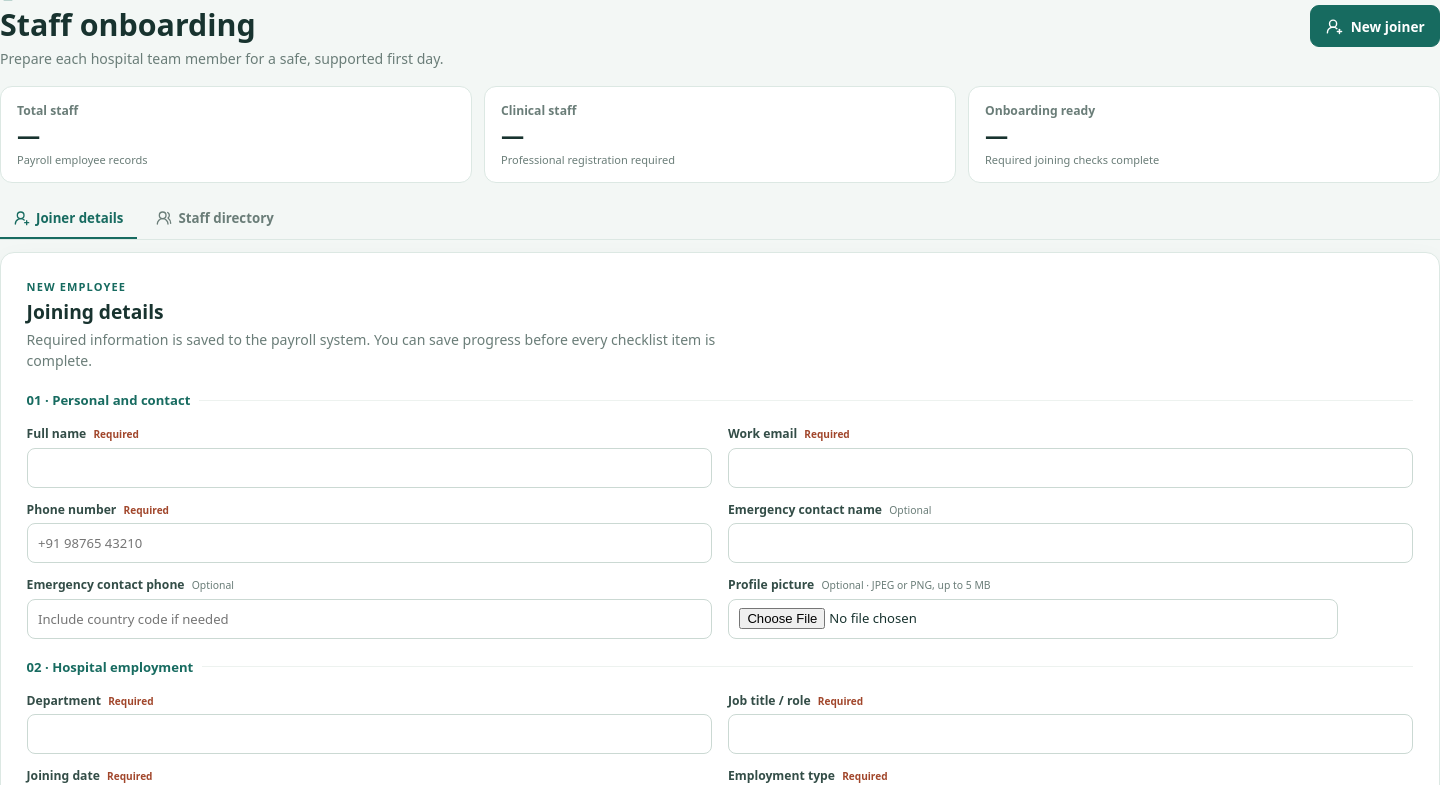
shows professional credentialing fields for clinical roles
The width and height of the screenshot is (1440, 785).
Expected: the heading "Joining details" is shown, [27,298,164,325]
In the field labelled "Job title / role Required": point(1071, 734) [728,714,1413,754], type "Doctor"
(page scrolled)
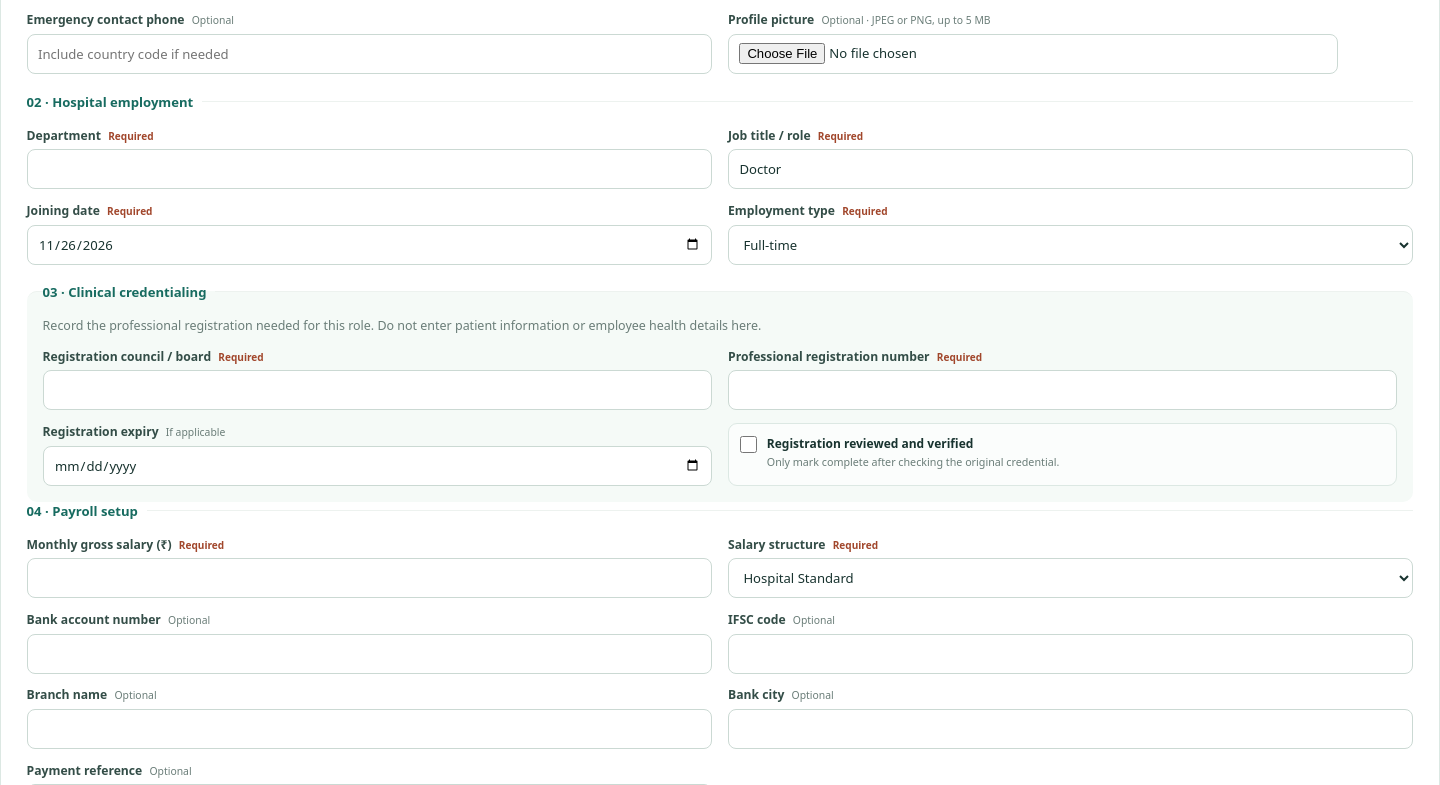
Now the text "03 · Clinical credentialing" is shown, box [43,283,215,301]
